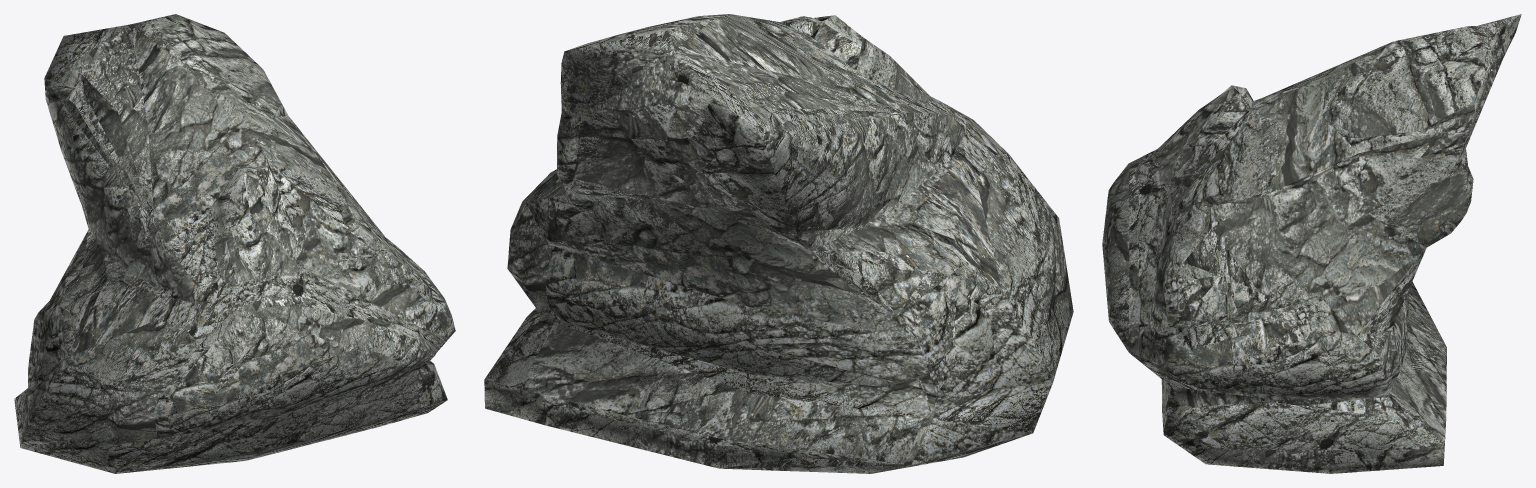
The model's file is overrock.FBX.
The picture shows the model from 3 angles, left to right: view 1: azimuth 30°, elevation 25°; view 2: azimuth 150°, elevation 25°; view 3: azimuth 270°, elevation 25°; orthographic projection. The views are drawn at different scales.
Parts seen in each view (by area): view 1: overanger512, overanger256, overanger128; view 2: overanger512, overanger256, overanger128; view 3: overanger512, overanger256, overanger128.
Part boxes in pixels (bbox=[...]): overanger512: bbox=[14, 14, 455, 460]; overanger256: bbox=[20, 22, 449, 473]; overanger128: bbox=[21, 75, 434, 473]; overanger512: bbox=[484, 14, 1073, 473]; overanger256: bbox=[484, 14, 1071, 473]; overanger128: bbox=[525, 49, 1030, 468]; overanger512: bbox=[1102, 14, 1521, 473]; overanger256: bbox=[1102, 42, 1489, 449]; overanger128: bbox=[1129, 14, 1521, 405].
Size of the model in its own units: 20.67 by 17.7 by 18.17.
